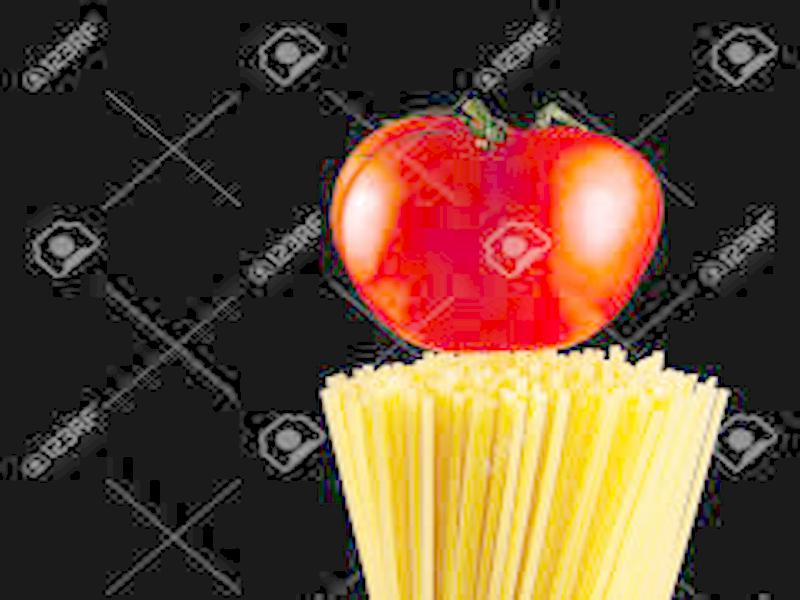Tomato: (337, 114, 660, 354)
